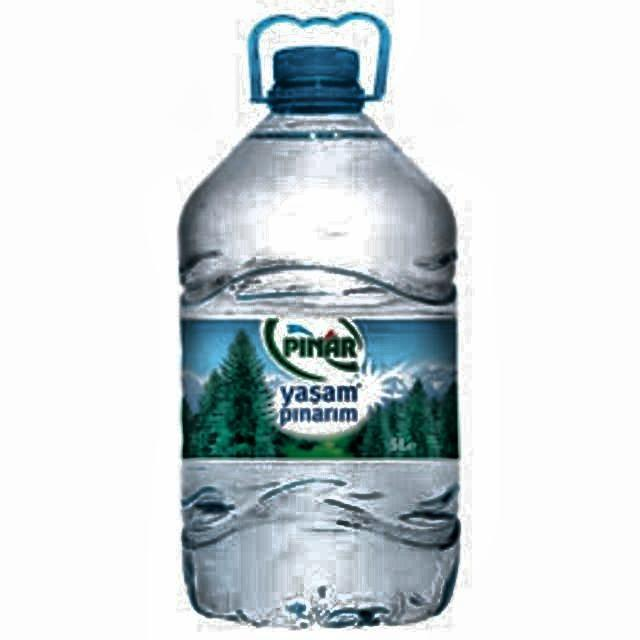plastic: (177, 12, 463, 636)
